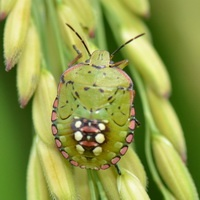insect: (51, 24, 144, 173)
